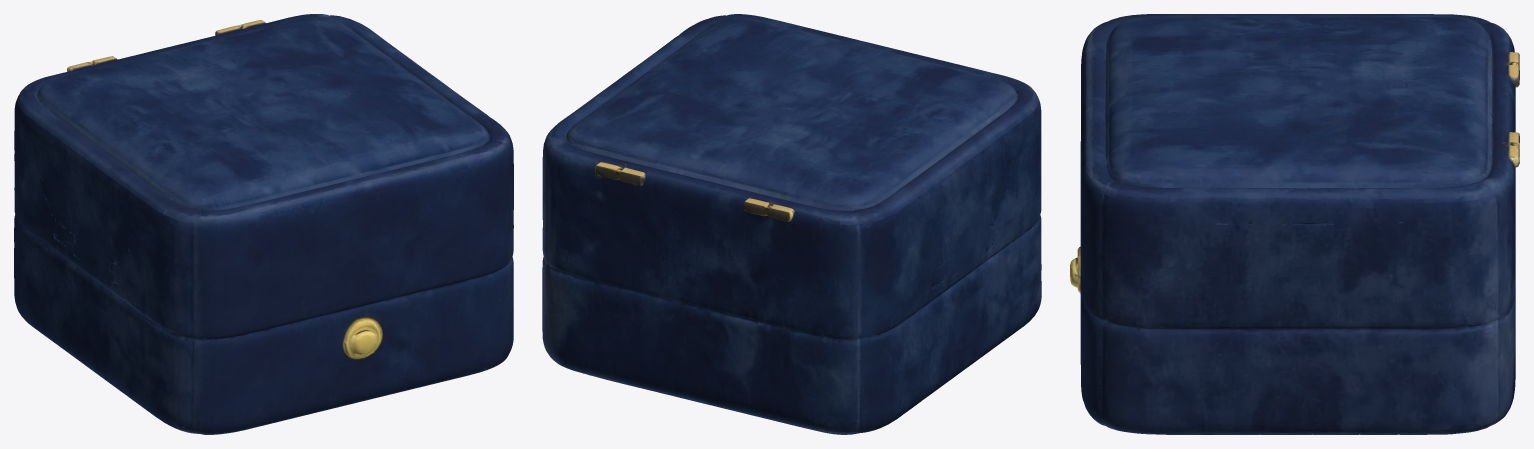
Rendered from jewelry-box.glb.
3 renders of one model, left to right at view 1: azimuth 30°, elevation 25°; view 2: azimuth 150°, elevation 25°; view 3: azimuth 270°, elevation 25°, orthographic. The views are drawn at different scales.
Visible parts, largest first — view 1: geometry_0; view 2: geometry_0; view 3: geometry_0.
Part boxes in pixels (x1=…): geometry_0: x1=14, y1=14, x2=513, y2=434; geometry_0: x1=542, y1=14, x2=1041, y2=434; geometry_0: x1=1070, y1=14, x2=1519, y2=434.
Size of the model in its own units: 0.1 by 0.067 by 0.1006.
1 material, 1 textured.
